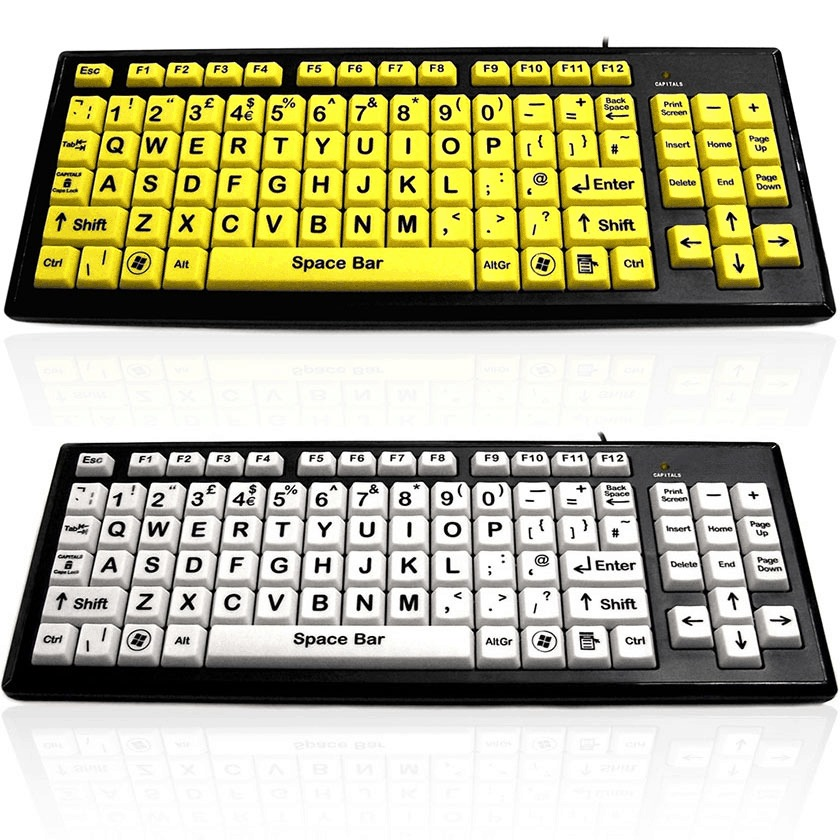keyboard: (21, 373, 825, 833), (10, 5, 830, 330)
